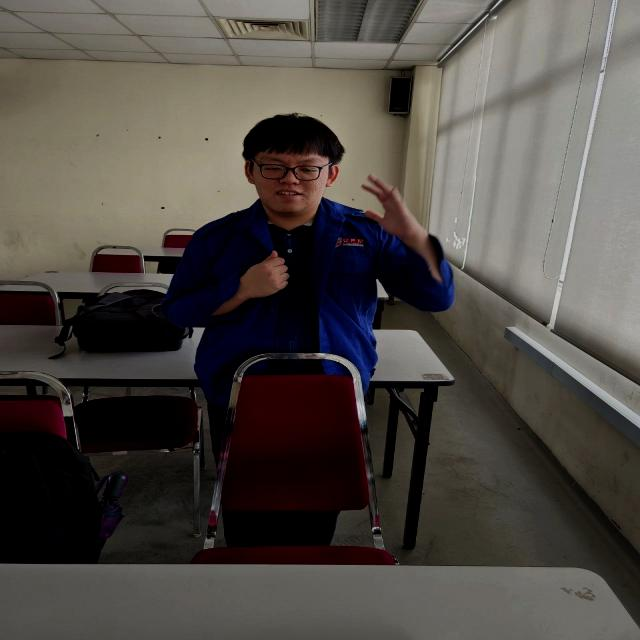person_with_labcoat: (162, 114, 452, 456)
